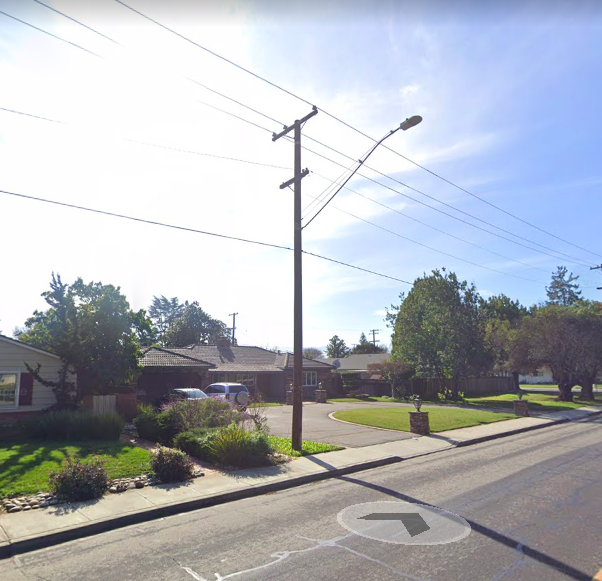utility_pole: (266, 100, 323, 154)
